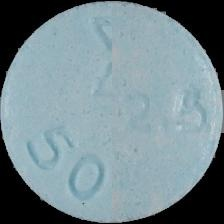0172-5033: (0, 0, 224, 224)
